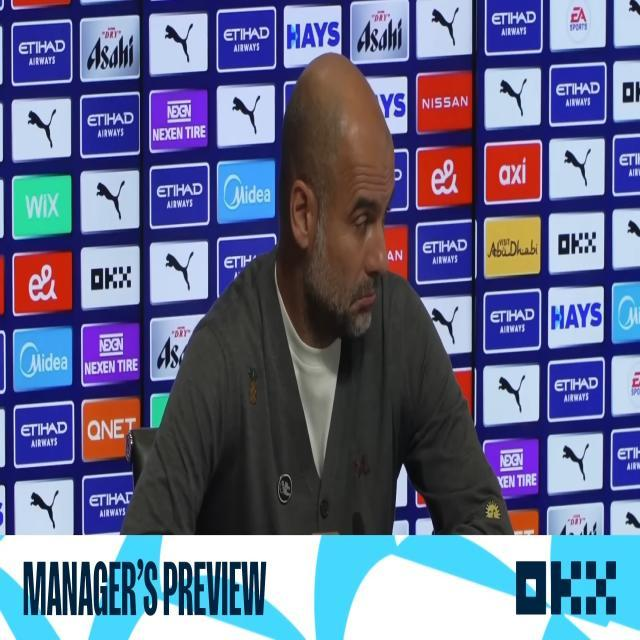Etihad Airways: (86, 105, 134, 142), (156, 177, 204, 214), (89, 487, 136, 522), (223, 249, 263, 286), (423, 236, 470, 267), (555, 78, 602, 109), (18, 39, 68, 68), (223, 25, 271, 54), (23, 418, 69, 446), (492, 9, 536, 38), (554, 377, 599, 404), (491, 306, 534, 334), (616, 447, 640, 476), (619, 150, 640, 181)
Puma: (427, 0, 462, 50), (26, 486, 60, 532), (163, 21, 196, 66), (230, 89, 262, 135), (22, 108, 58, 148), (496, 71, 526, 119), (564, 141, 593, 189), (163, 249, 194, 289), (96, 179, 126, 220), (563, 441, 590, 482), (498, 373, 526, 412), (431, 304, 458, 344), (627, 215, 640, 246), (624, 509, 640, 534), (623, 0, 640, 20)
